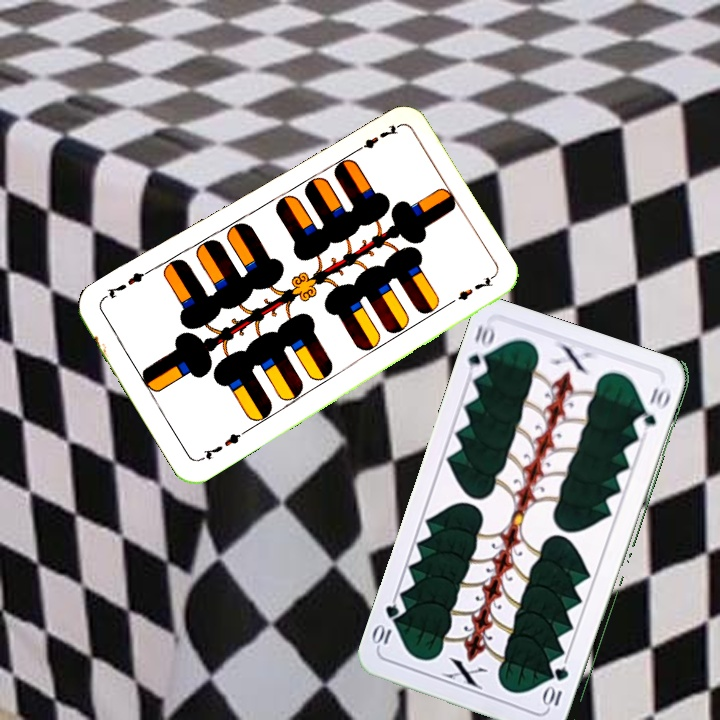E7: (195, 426, 249, 464), (348, 120, 401, 157)
G10: (464, 321, 498, 380), (543, 662, 571, 710)
